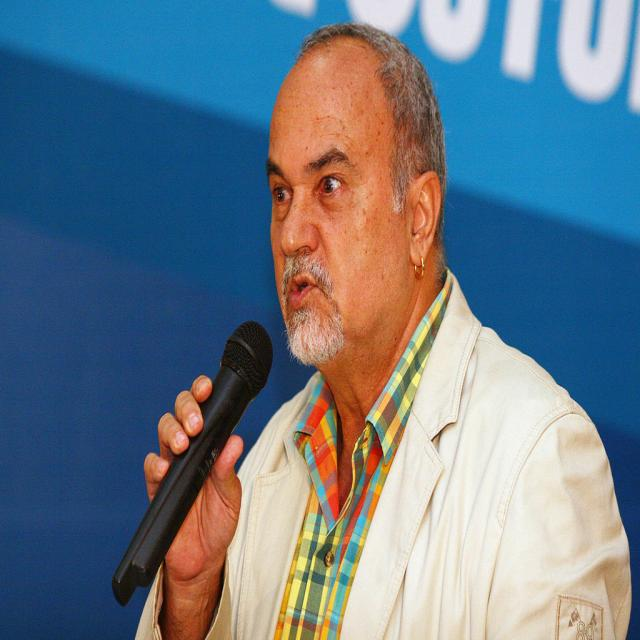no_helmet: (263, 124, 446, 206)
